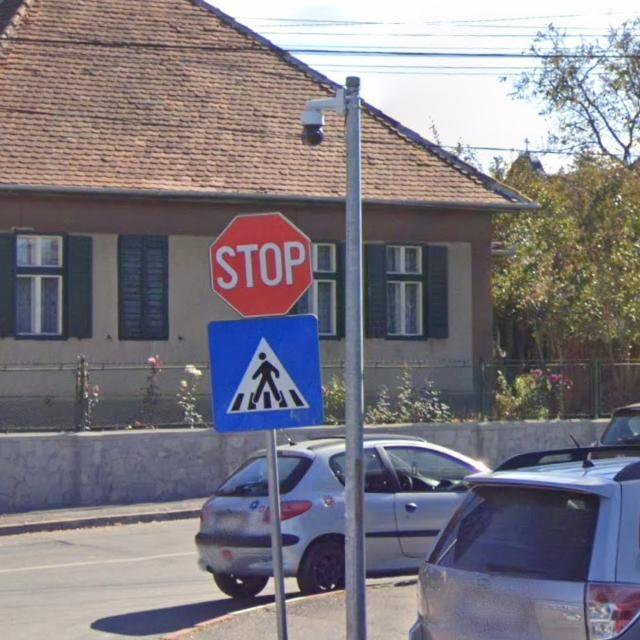info_crosswalk: (209, 318, 327, 435)
prio_stop: (209, 211, 314, 316)
